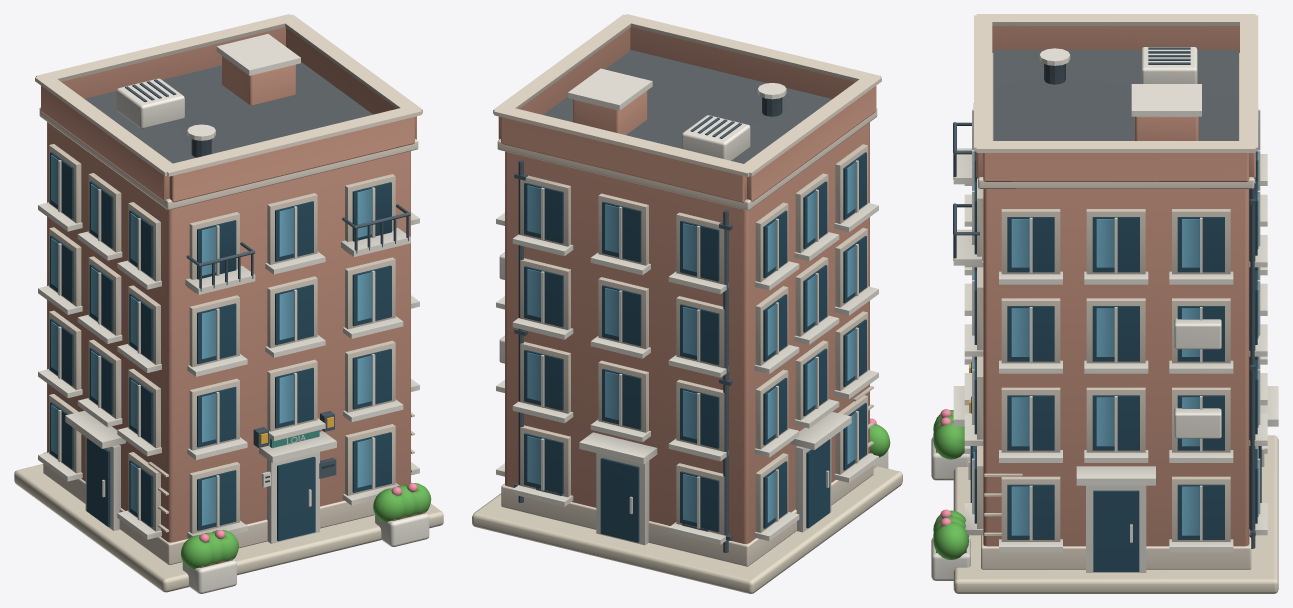
The model's file is townhouse-pink.glb.
3 views of the same model, side by side, from view 1: azimuth 30°, elevation 25°; view 2: azimuth 150°, elevation 25°; view 3: azimuth 270°, elevation 25° (orthographic). The views are drawn at different scales.
Parts seen in each view (by area): view 1: stucco, foundation, mullion, blue glazing, sky reflection, recessed roof, paving, plant, vent grille; view 2: stucco, foundation, blue glazing, mullion, sky reflection, paving, recessed roof, vent grille; view 3: stucco, foundation, mullion, blue glazing, recessed roof, paving, sky reflection, vent grille, plant.
Part boxes in pixels (x1,y1,x2,y2): stucco: (41,27,416,542); foundation: (35,14,422,564); mullion: (38,34,429,593); blue glazing: (50,152,391,541); sky reflection: (51,155,371,525); recessed roof: (84,62,372,163); paving: (14,464,443,592); plant: (180,483,431,569); vent grille: (125,79,410,478); stucco: (498,27,876,543); foundation: (493,14,881,566); blue glazing: (524,152,866,542); mullion: (496,68,888,545); sky reflection: (527,162,855,522); paving: (472,466,902,593); recessed roof: (543,50,832,163); vent grille: (514,97,782,552); stucco: (976,26,1255,546); foundation: (974,14,1258,569); mullion: (931,47,1278,580); blue glazing: (970,151,1261,571); recessed roof: (993,50,1238,140); paving: (953,435,1278,593); sky reflection: (973,103,1258,535); vent grille: (953,47,1255,548); plant: (933,410,968,559).
Bounding box in the file's own units: 2.81 × 3.91 × 2.71.
